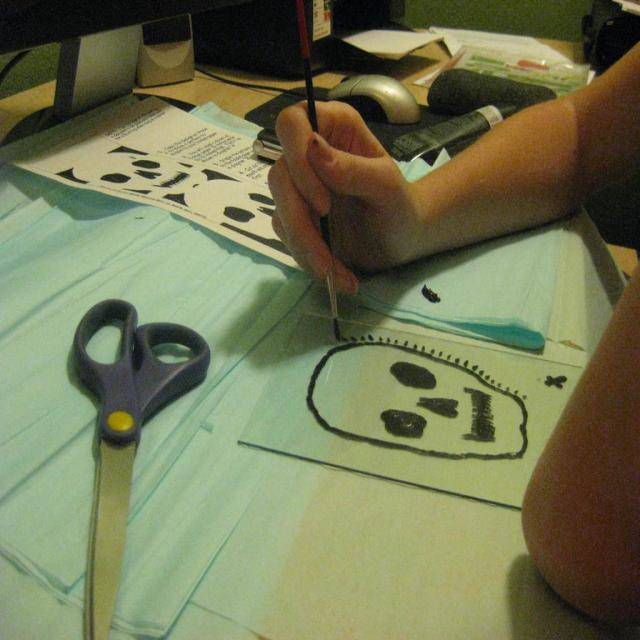scissors: (70, 297, 211, 638)
